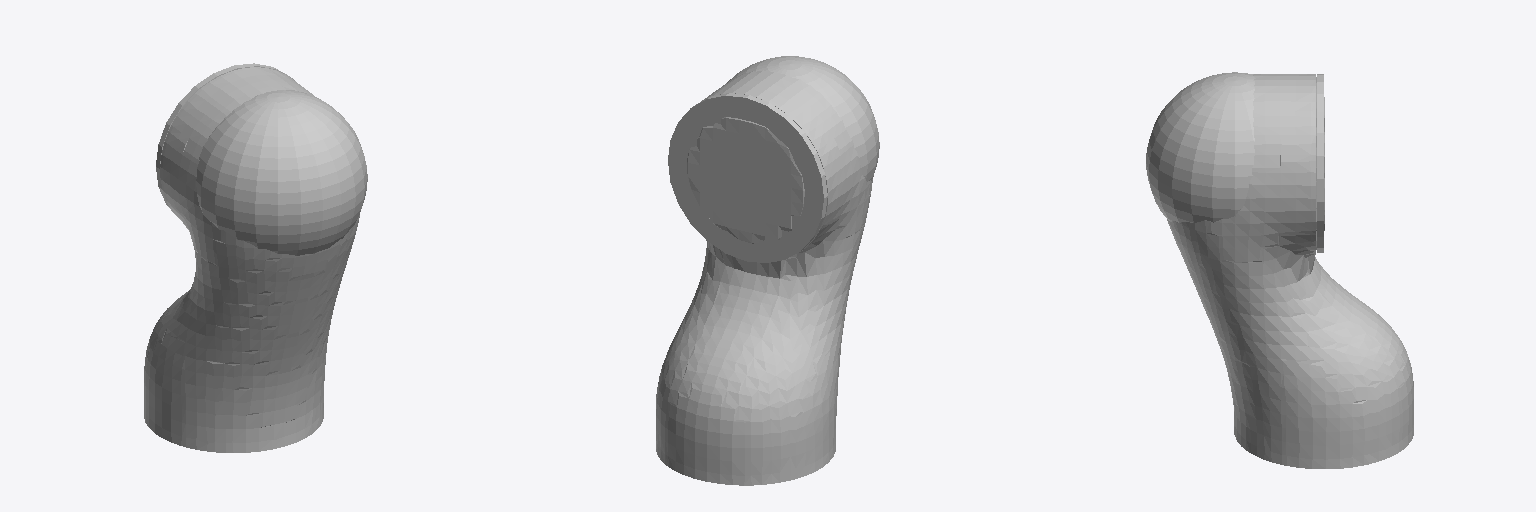
Rendered from lbr3_j3.obj.
3 views of the same model, side by side, from view 1: azimuth 30°, elevation 25°; view 2: azimuth 150°, elevation 25°; view 3: azimuth 270°, elevation 25° (orthographic).
Visible parts, largest first — view 1: Entity_link__3, Default_1_link__3, Default_3_link__4; view 2: Entity_link__3, Default_3_link__4, Default_1_link__3; view 3: Entity_link__3, Default_1_link__3, Default_3_link__4.
Boxes of the visible parts, x1,y1,x2,y2 form: Entity_link__3: [144, 67, 359, 452]; Default_1_link__3: [196, 90, 367, 255]; Default_3_link__4: [156, 63, 294, 212]; Entity_link__3: [656, 70, 872, 485]; Default_3_link__4: [668, 93, 827, 262]; Default_1_link__3: [727, 56, 879, 181]; Entity_link__3: [1167, 74, 1413, 468]; Default_1_link__3: [1146, 72, 1255, 222]; Default_3_link__4: [1317, 74, 1323, 252].
Size of the model in its own units: 0.0818 by 0.1754 by 0.1216.